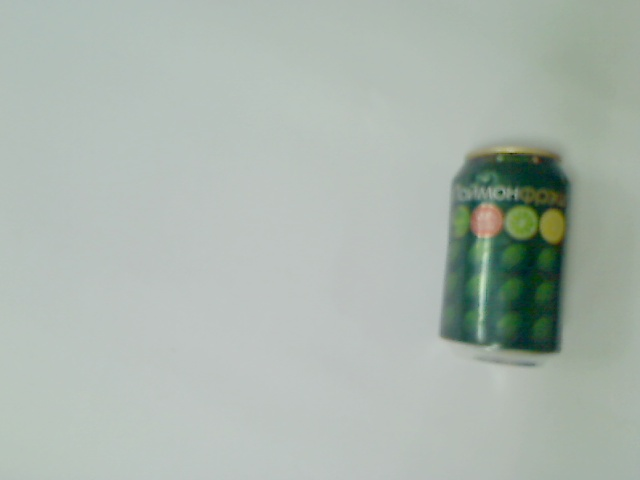can: (435, 142, 580, 373)
